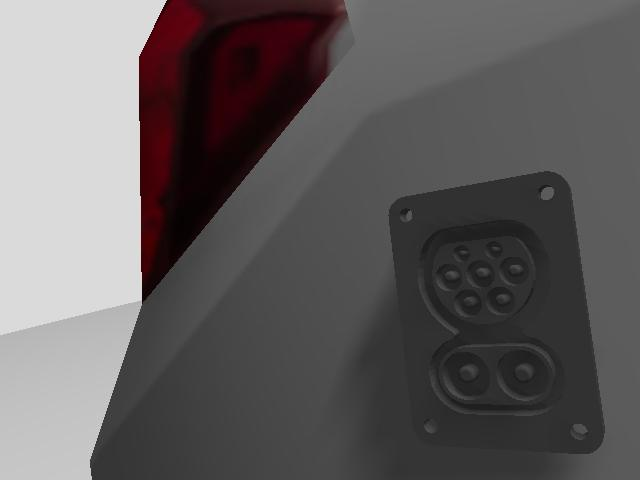EV-socket: (387, 167, 611, 456)
